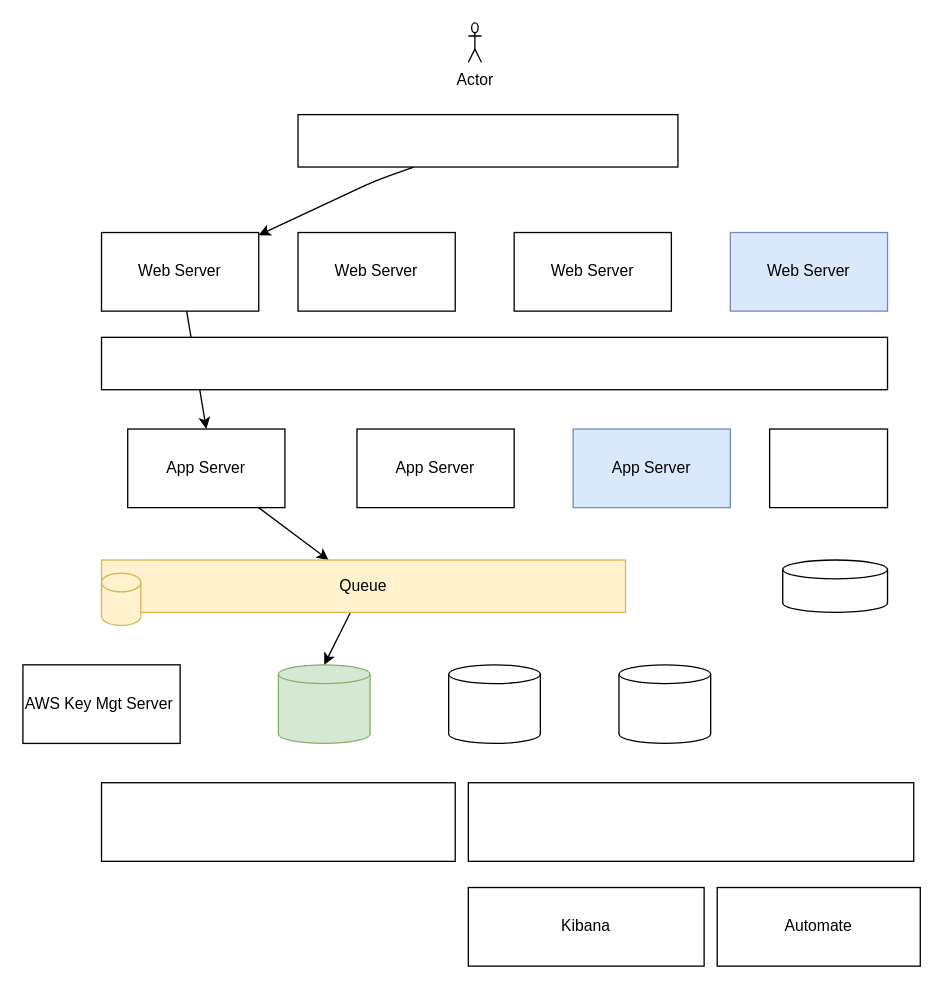
Some shapes in this 943 by 989 pixel diagram are drawn without their labels. The centre of each missing label's shape, as x and y in pixels:
"Distributed Cache - Product Catalog" belongs at pixel 494 363.
"ELB" belongs at pixel 487 140.
"json" belongs at pixel 834 585.
"Log Agregator" belongs at pixel 277 821.
"Microservice" belongs at pixel 828 468.
"Prometheus" belongs at pixel 690 821.
